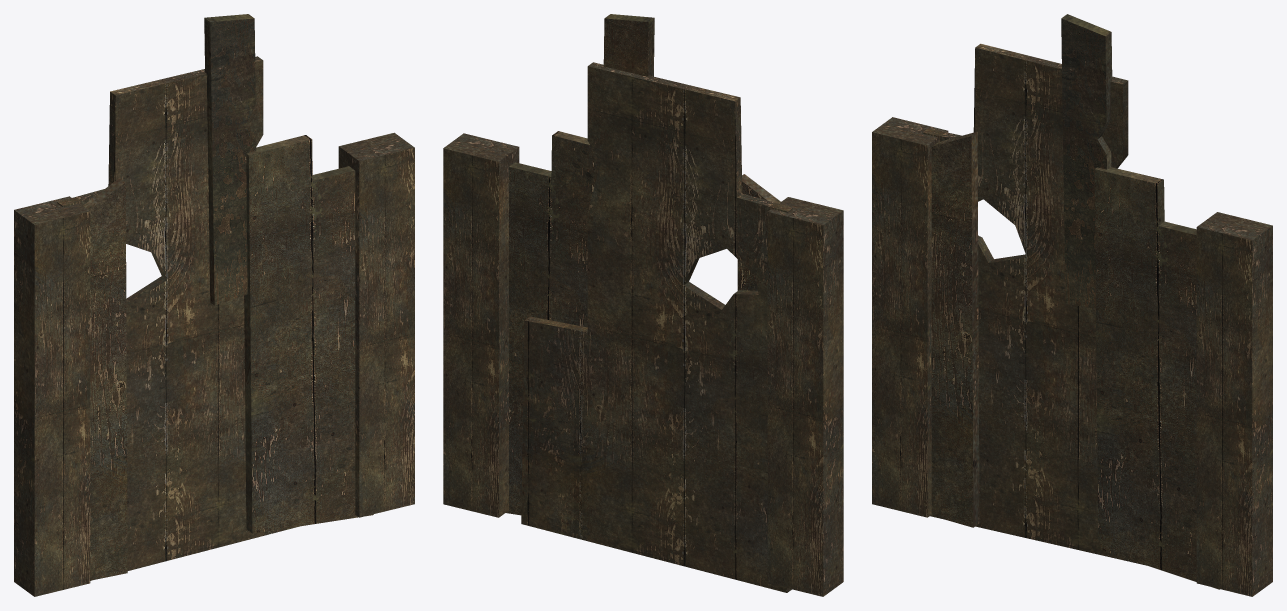
The model's file is Wall_Wood1.fbx.
The picture shows the model from 3 angles, left to right: view 1: azimuth 30°, elevation 25°; view 2: azimuth 150°, elevation 25°; view 3: azimuth 330°, elevation 25°; orthographic projection.
Visible parts, largest first — view 1: woodwall3; view 2: woodwall3; view 3: woodwall3.
Part boxes in pixels (x1=…): woodwall3: x1=14, y1=14, x2=414, y2=596; woodwall3: x1=443, y1=14, x2=843, y2=596; woodwall3: x1=872, y1=14, x2=1272, y2=596.
Size of the model in its own units: 507 by 681 by 47.4.
